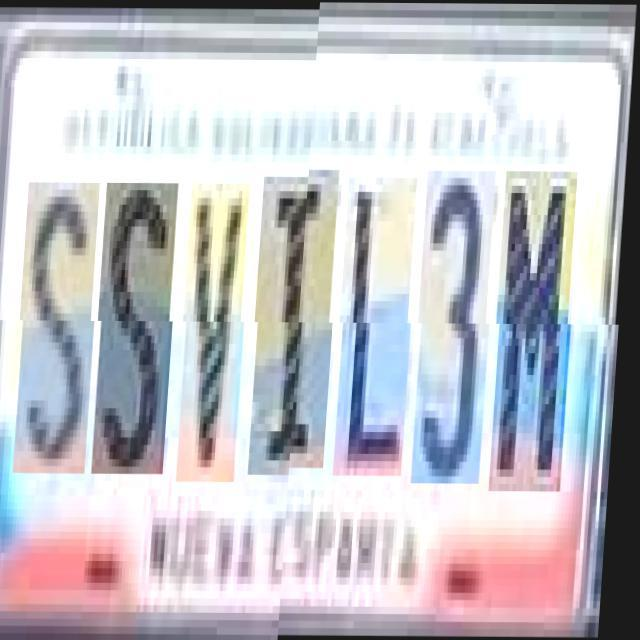3: (417, 178, 501, 490)
I: (254, 176, 345, 474)
L: (339, 185, 423, 482)
M: (495, 178, 583, 498)
S: (98, 183, 185, 474), (20, 182, 106, 473)
V: (182, 184, 256, 482)
